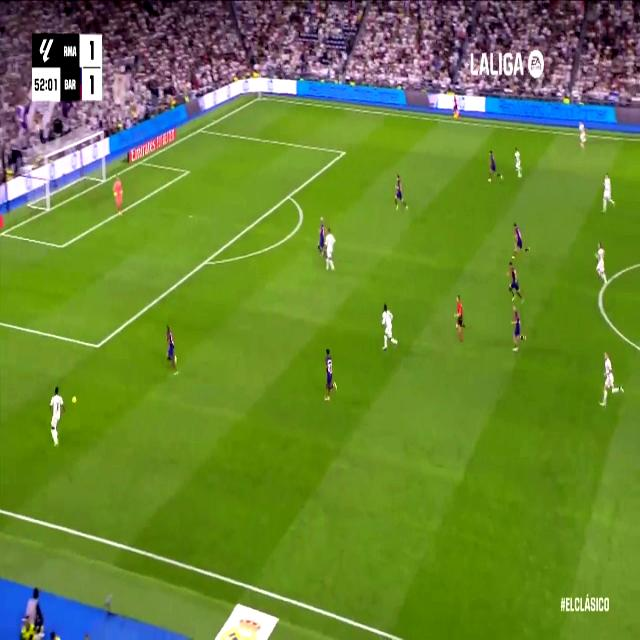bigarea_bottom_inner: (91, 332, 102, 359)
bigarea_top_inner: (340, 144, 346, 160)
bigarea_top_outter: (197, 122, 205, 136)
bottom_arc_area_intersection: (200, 250, 212, 272)
corner: (256, 92, 264, 103)
smallarea_bottom_inner: (58, 236, 66, 256)
smallarea_top_inner: (183, 165, 190, 177)
top_arc_area_intersection: (285, 186, 293, 204)
